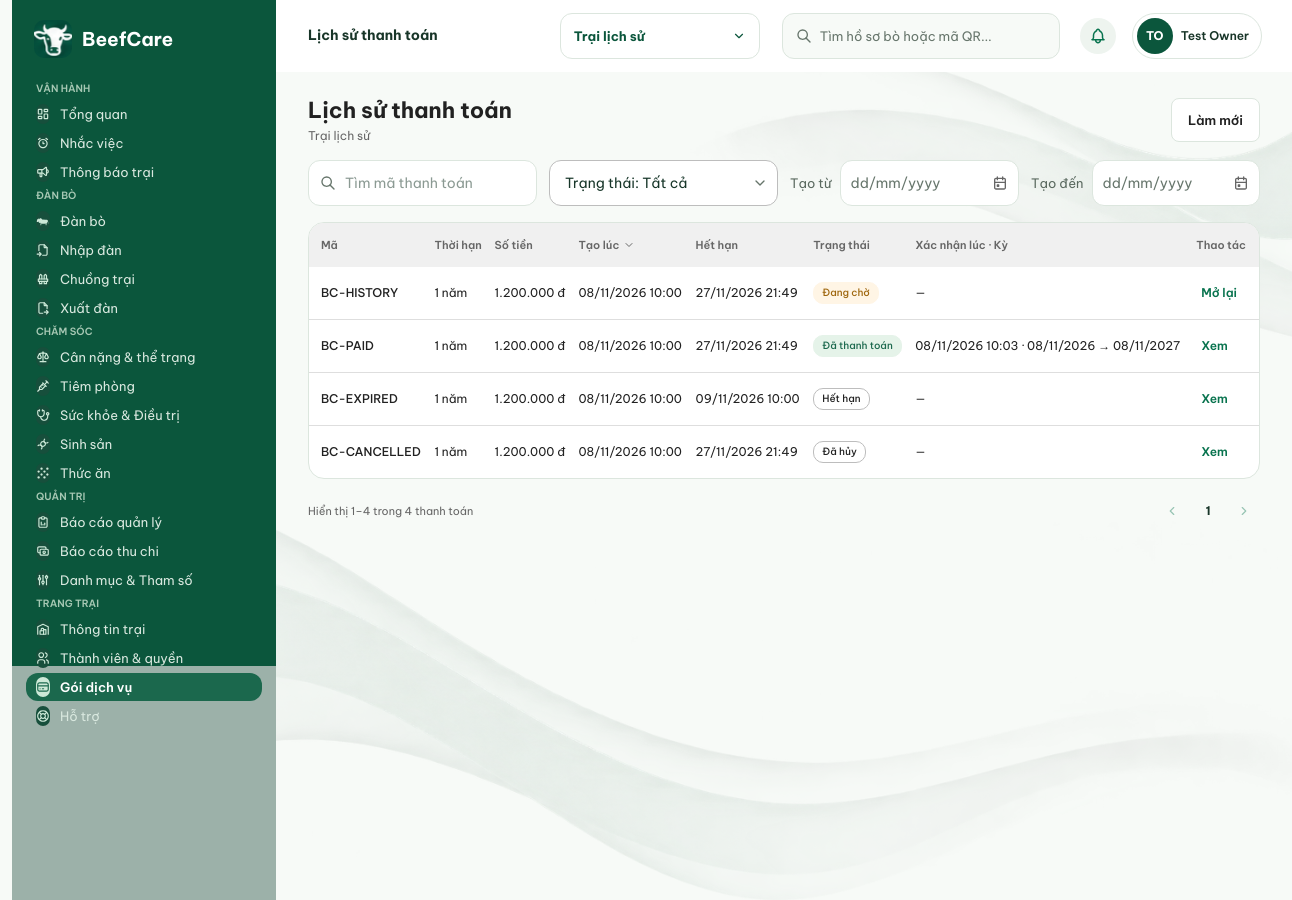
Test: UC3 backend history contract › searches once after typing pauses and keeps the table while reloading
Later steps or results of the test are not shown.
Expected: the text "BC-HISTORY" is shown, [309,267,428,320]
In the search field labelled "Tìm mã thanh toán": [422, 183] box [308,160,537,206], type "B"
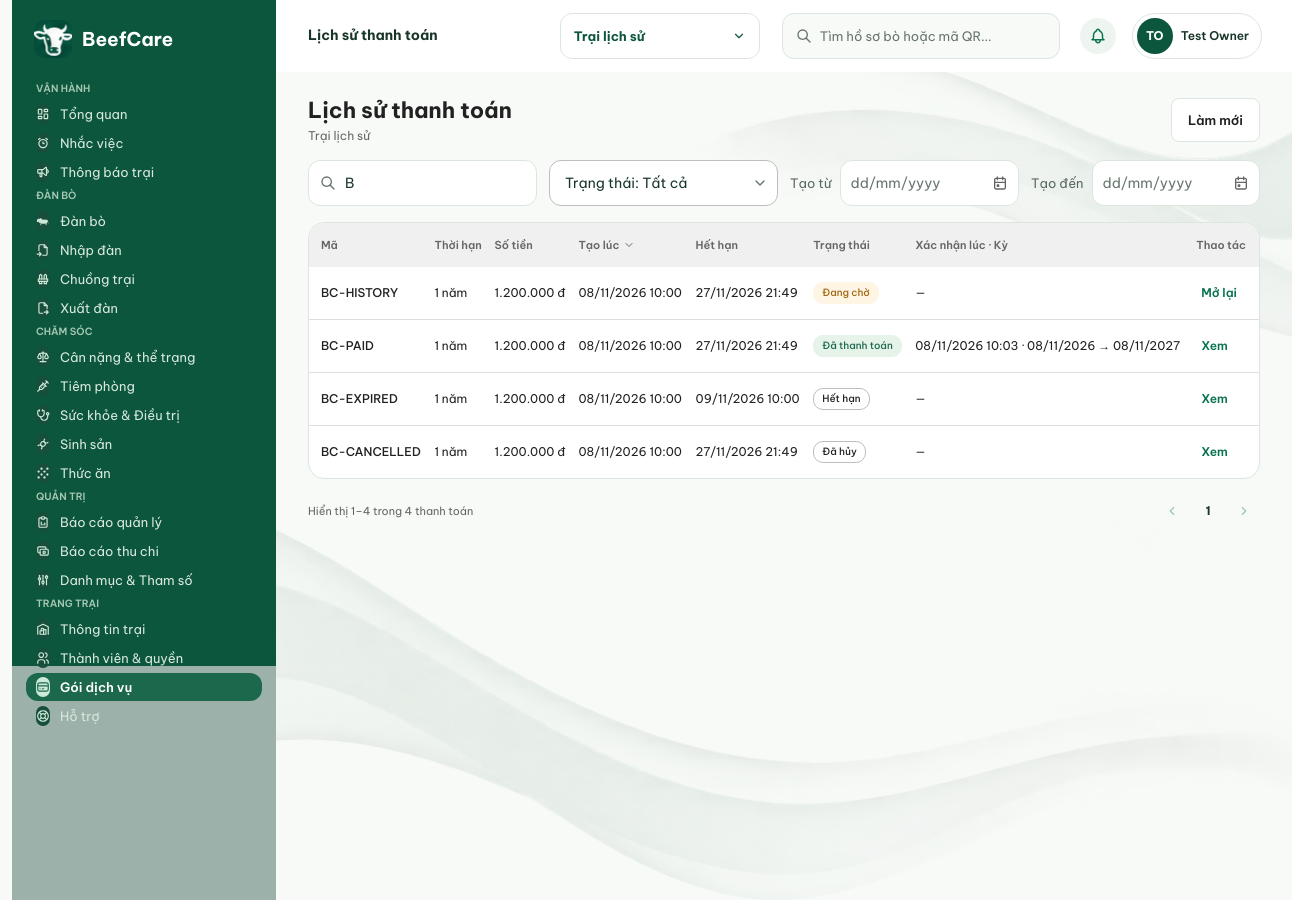
Replace the text in the search field named "Tìm mã thanh toán" with "BC": [422, 183] box [308,160,537,206]
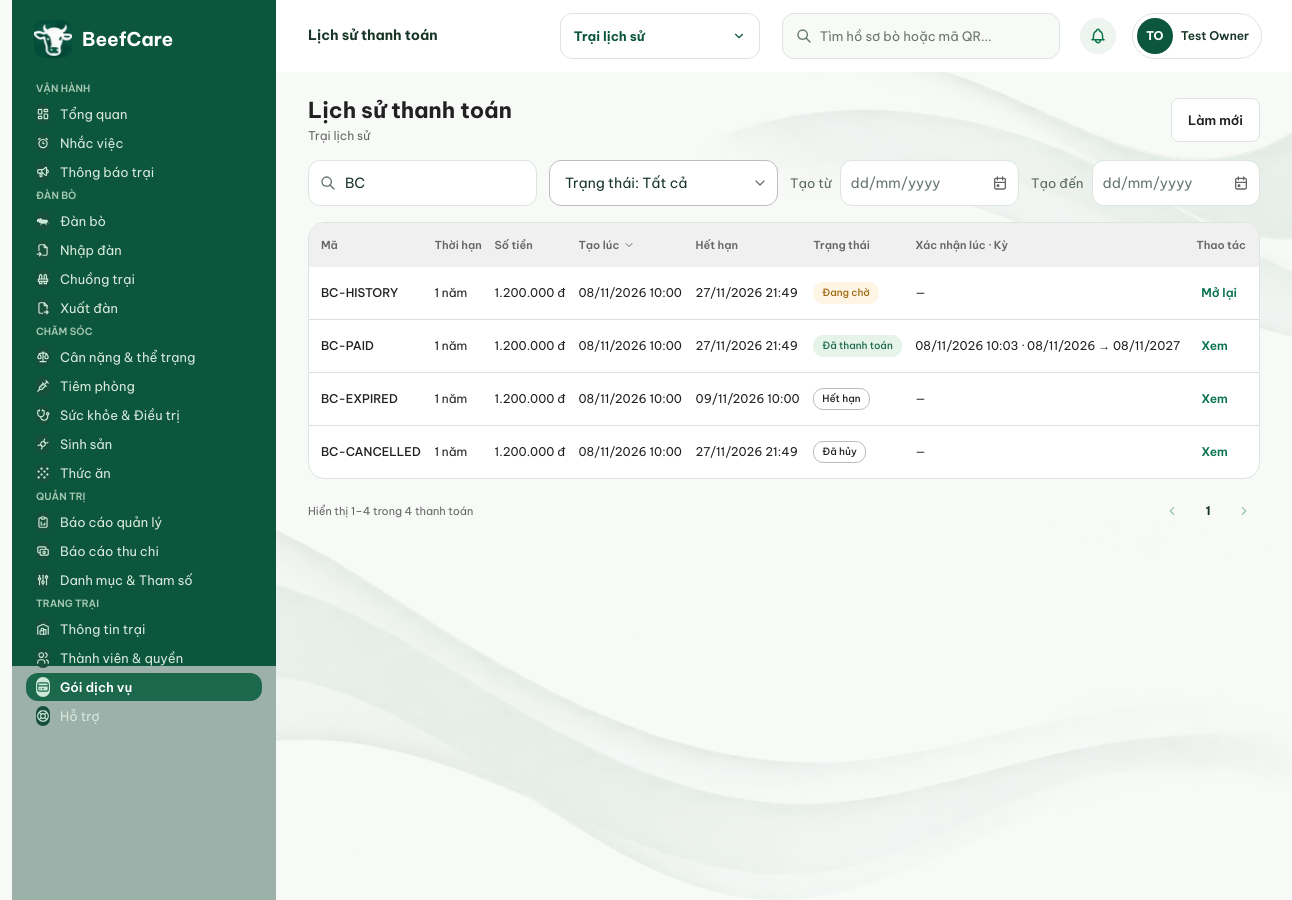
Replace the text in the search field named "Tìm mã thanh toán" with "BC-H": [422, 183] box [308,160,537,206]
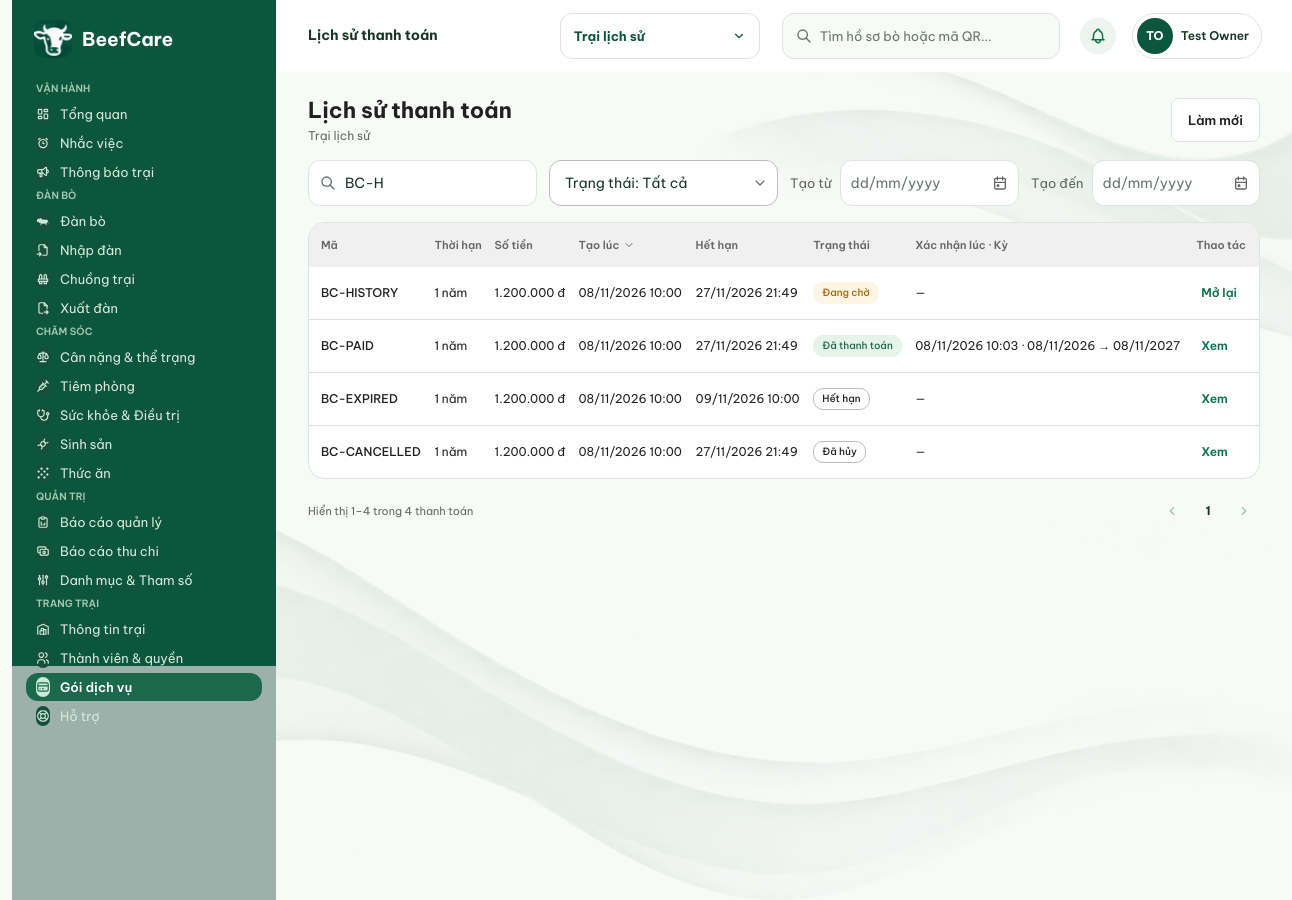
Click the button "Làm mới": [1216, 120] box [1171,98,1260,142]
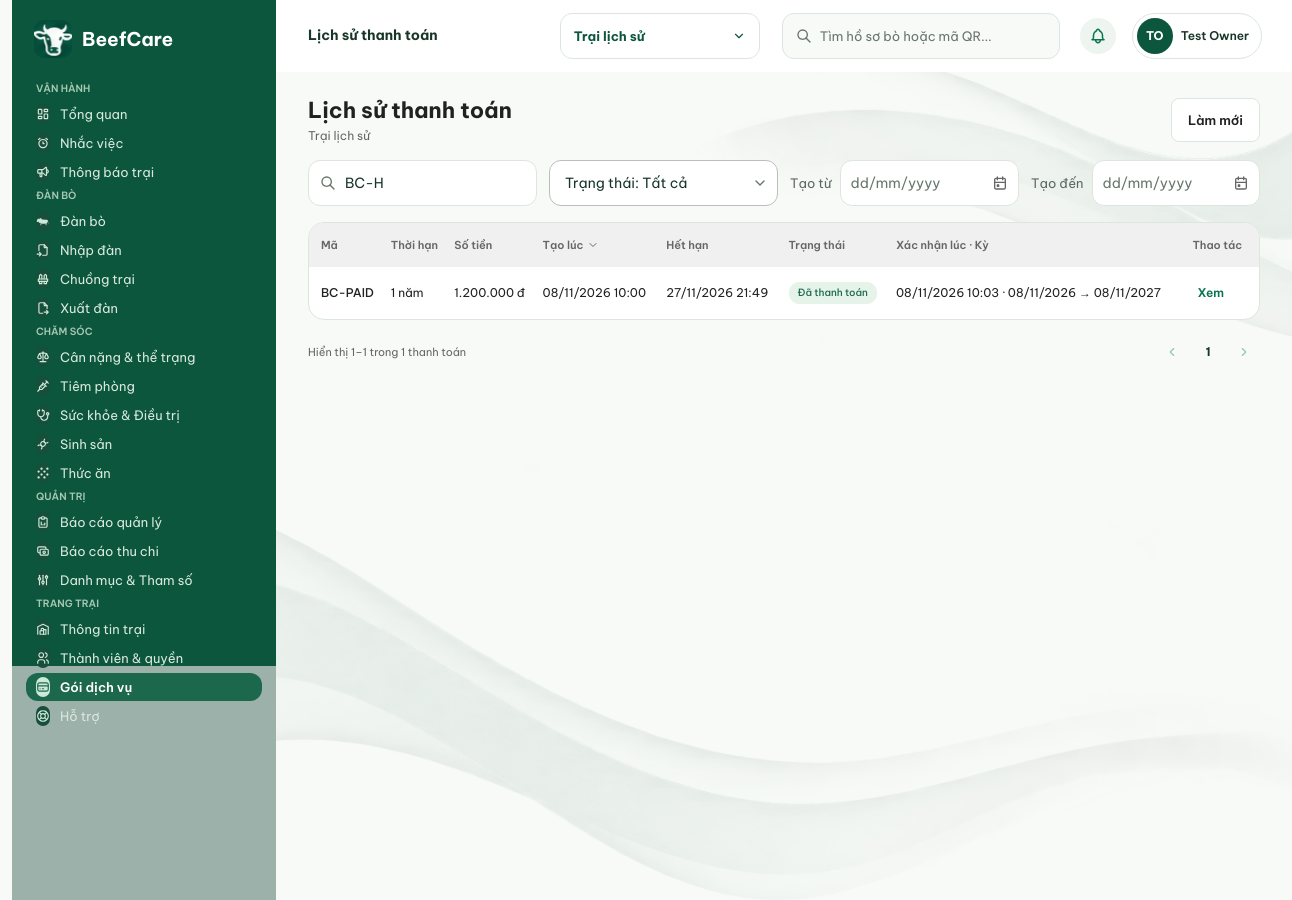
Expected: the text "BC-PAID" is shown, [309,267,385,319]
Now the text "BC-HISTORY" is gone
